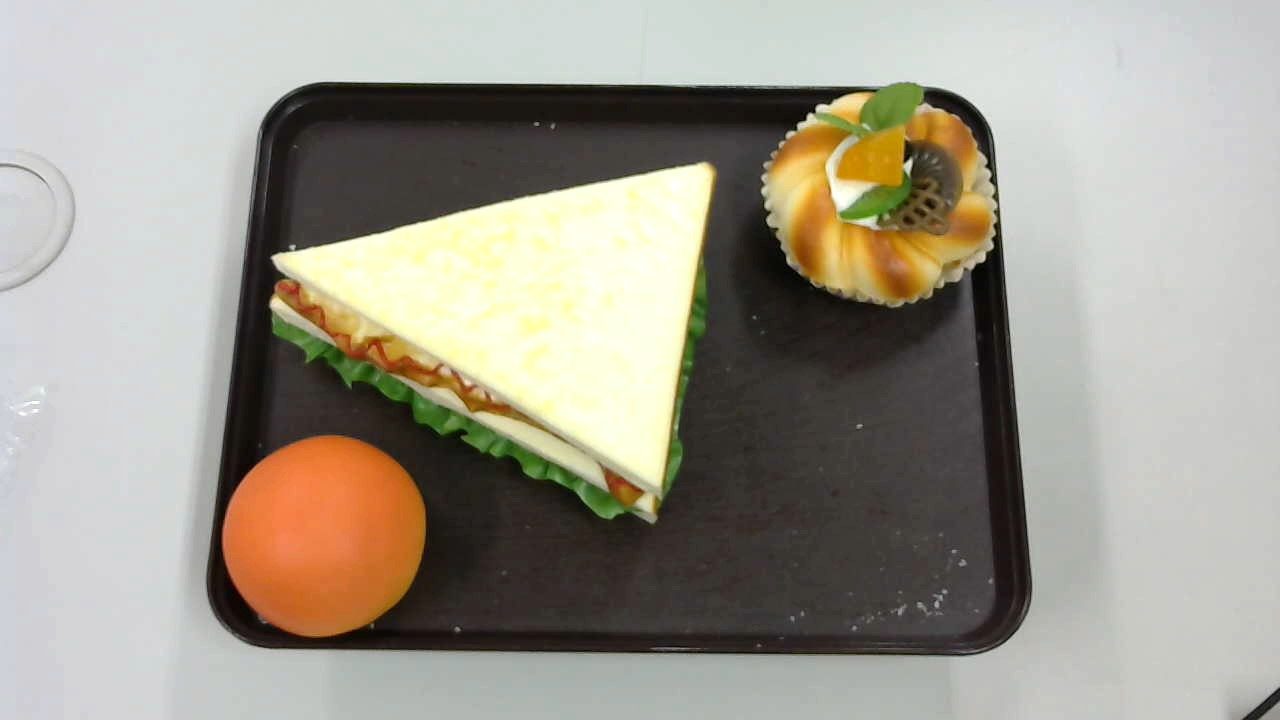bun: (223, 433, 425, 638)
fruit tart: (761, 81, 999, 307)
sandwich: (270, 160, 718, 525)
